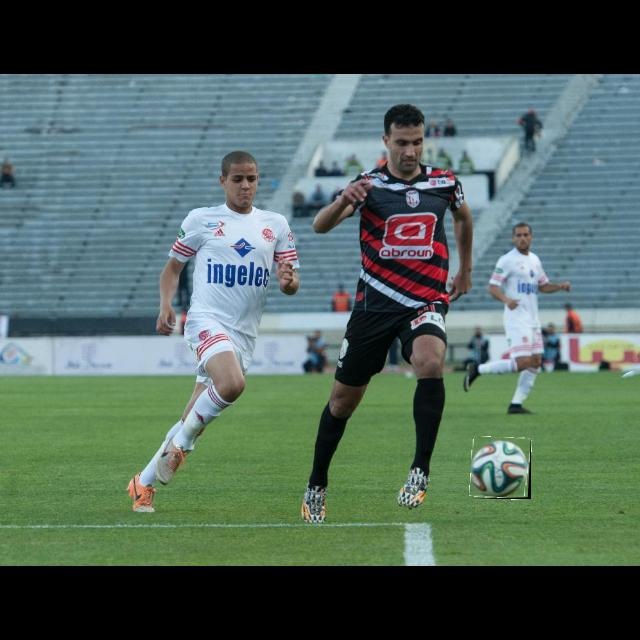Football: (471, 437, 531, 499)
